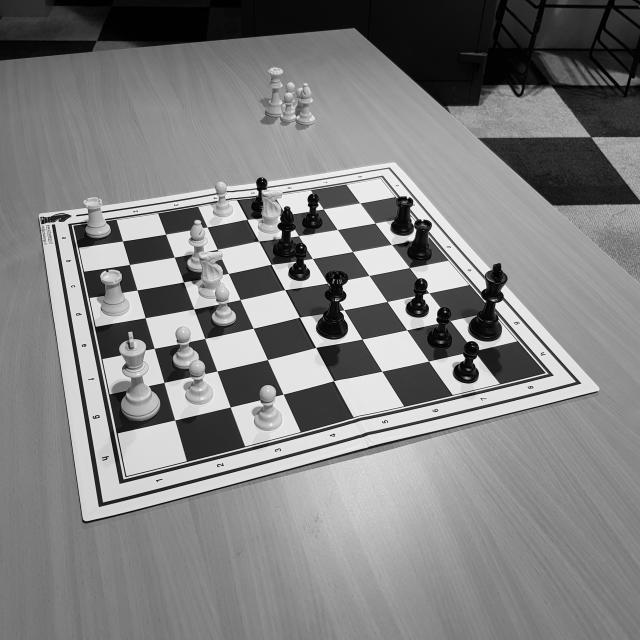chessboard: (69, 176, 548, 478)
